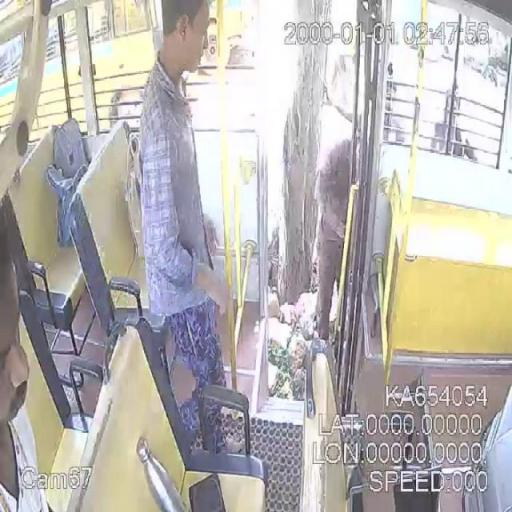persona: (136, 0, 231, 450), (310, 127, 358, 342)
